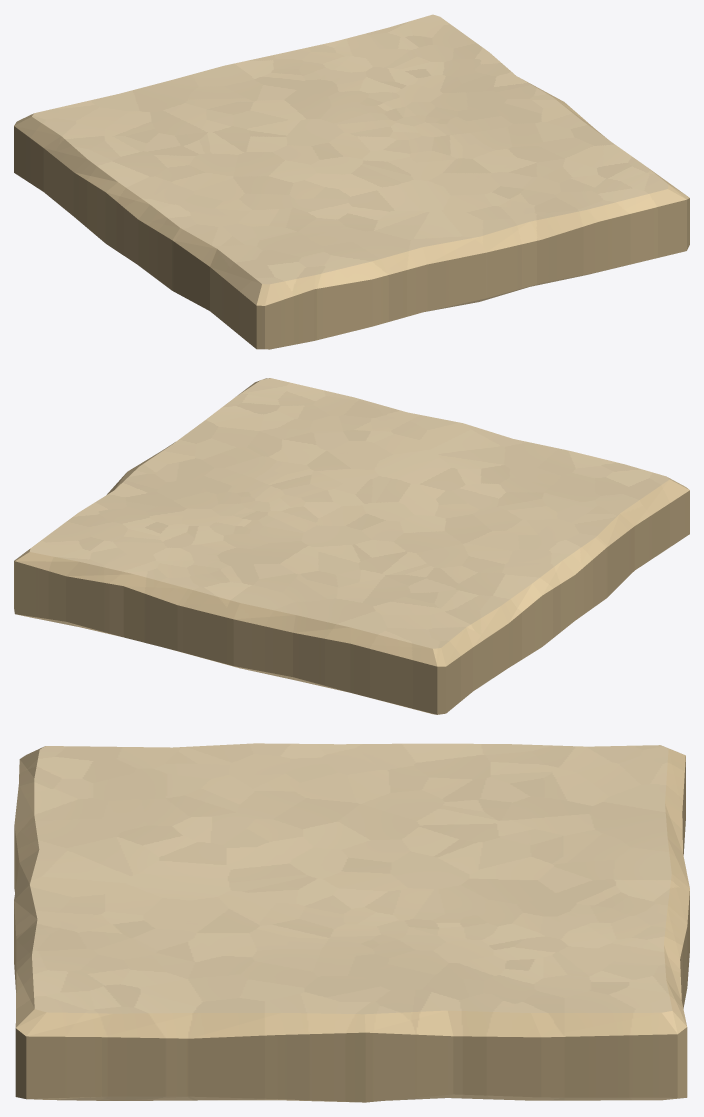
File: tile_a_intact.glb
3 renders of one model, top to bottom at view 1: azimuth 30°, elevation 25°; view 2: azimuth 150°, elevation 25°; view 3: azimuth 270°, elevation 25°, orthographic. The views are drawn at different scales.
Parts seen in each view (by area): view 1: tile_a_intact; view 2: tile_a_intact; view 3: tile_a_intact.
Boxes of the visible parts, x1=… form: tile_a_intact: x1=14, y1=14, x2=689, y2=349; tile_a_intact: x1=14, y1=378, x2=689, y2=714; tile_a_intact: x1=14, y1=743, x2=689, y2=1102.
Bounding box in the file's own units: 2.8 × 0.4 × 2.8.
Materials: 3 (3 with a texture image).
